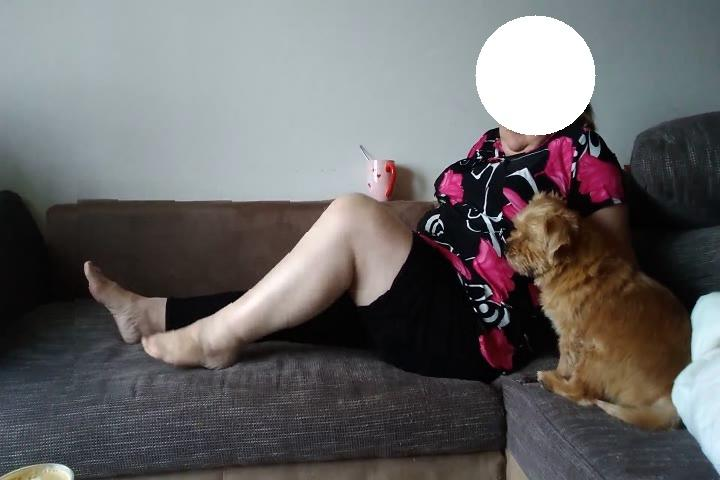lowerbody: (76, 183, 504, 396)
